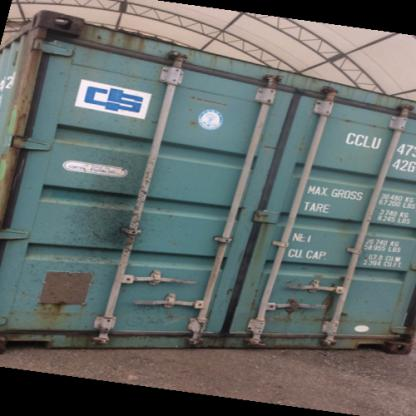Damage: (101, 122, 140, 251), (263, 280, 341, 330), (46, 262, 112, 314)
